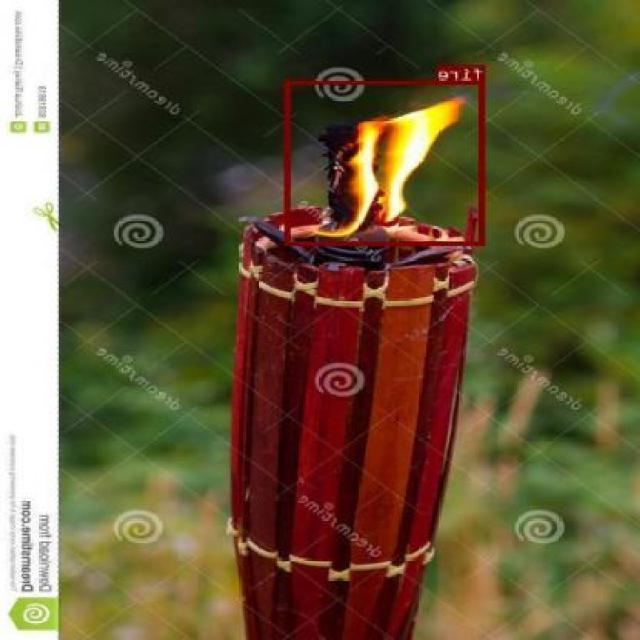fire: (286, 80, 486, 246)
